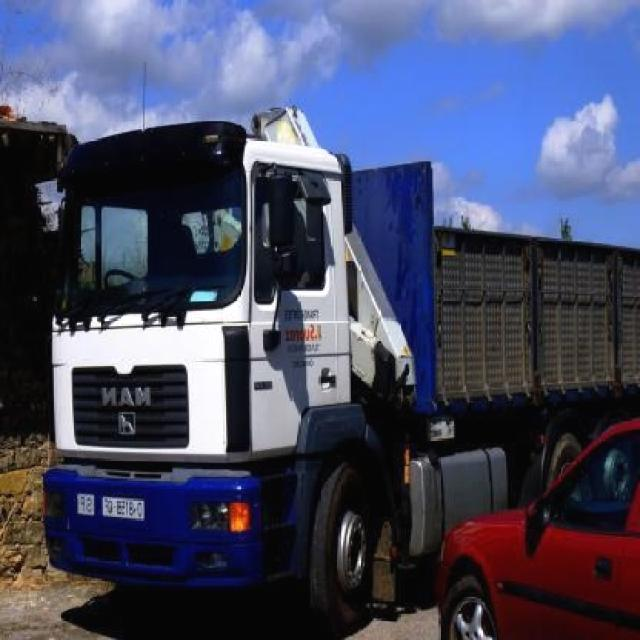Car: (410, 412, 640, 640)
Truck: (47, 121, 638, 589)
